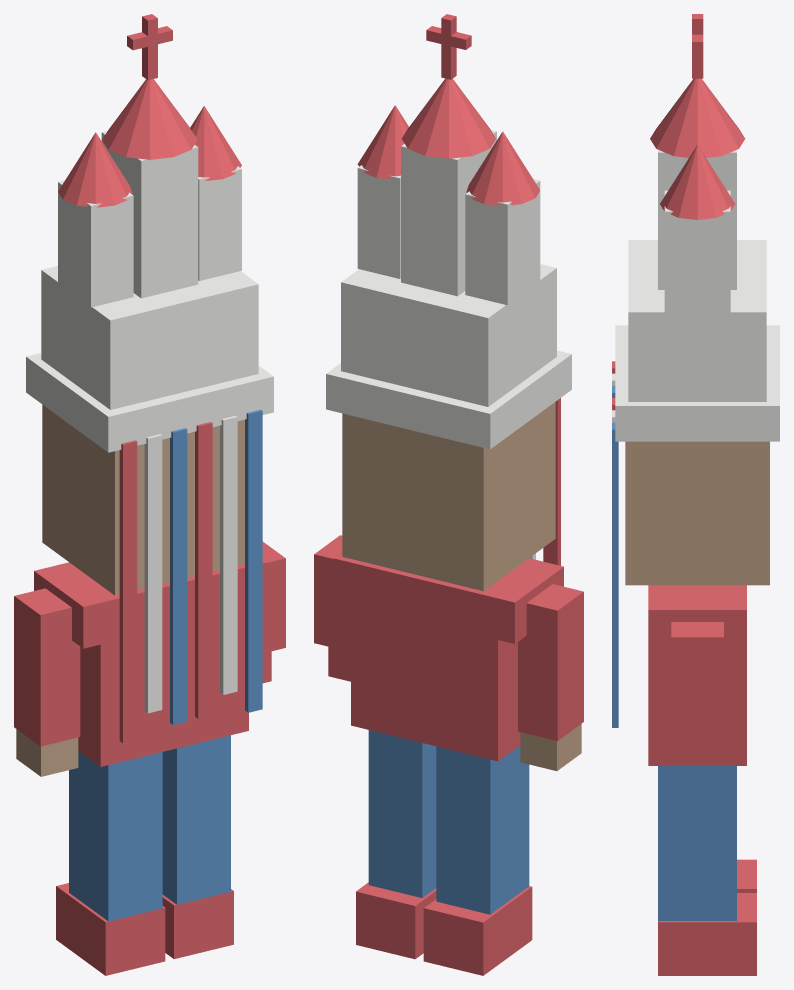
The model's file is mestre_blockout.glb.
3 views of the same model, side by side, from view 1: azimuth 30°, elevation 25°; view 2: azimuth 150°, elevation 25°; view 3: azimuth 270°, elevation 25° (orthographic).
Visible parts, largest first — view 1: Mestre, fita_5, fita_0, fita_3, fita_2, fita_4, fita_1; view 2: Mestre, fita_5; view 3: Mestre, fita_0.
Boxes of the visible parts, left/top/right/bottom form: Mestre: left=14, top=14, right=285, bottom=975; fita_5: left=119, top=440, right=137, bottom=743; fita_0: left=245, top=409, right=262, bottom=712; fita_3: left=170, top=428, right=187, bottom=724; fita_2: left=195, top=422, right=212, bottom=718; fita_4: left=144, top=434, right=162, bottom=713; fita_1: left=220, top=416, right=237, bottom=694; Mestre: left=314, top=14, right=583, bottom=975; fita_5: left=543, top=398, right=560, bottom=565; Mestre: left=615, top=14, right=779, bottom=975; fita_0: left=612, top=422, right=618, bottom=727.
Size of the model in its own units: 0.86 by 3.11 by 0.51.
